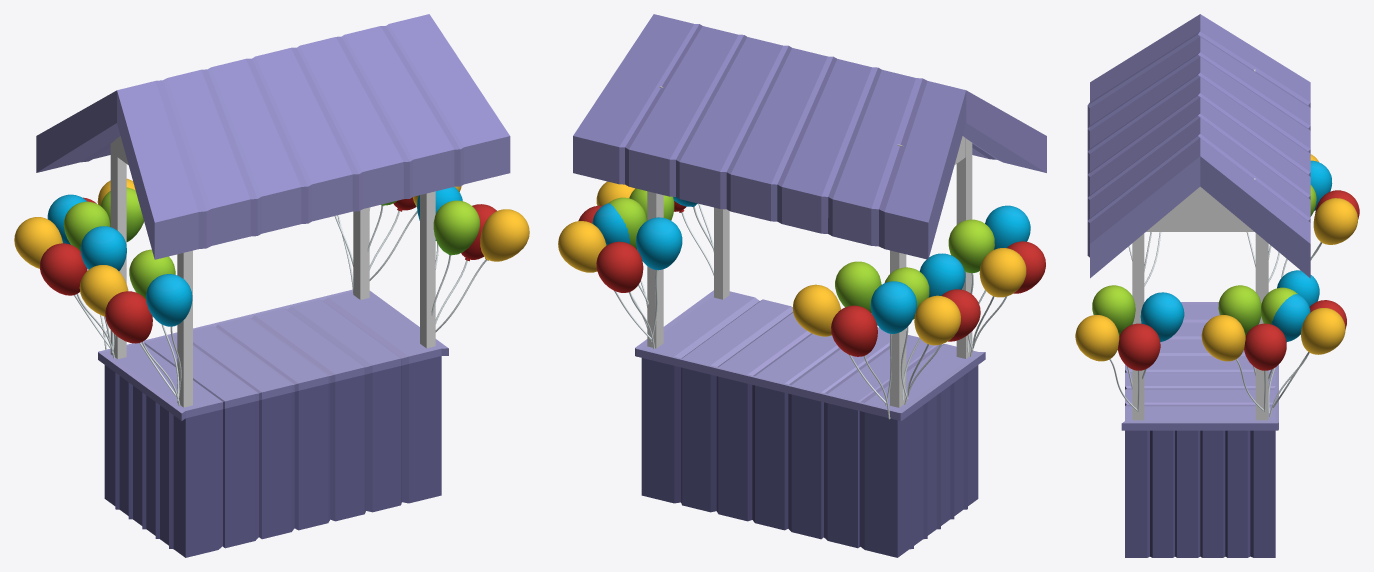
File: Tenant Balon .fbx
3 renders of one model, left to right at view 1: azimuth 30°, elevation 25°; view 2: azimuth 150°, elevation 25°; view 3: azimuth 270°, elevation 25°, orthographic. The views are drawn at different scales.
Visible parts, largest first — view 1: Cube.041, Cube.315, Sphere.006, Sphere.001, Sphere.007, Cube.314, Sphere.010, Cube.311, Cube.313, Cube.312; view 2: Cube.041, Cube.315, Sphere.010, Sphere.009, Sphere.006, Sphere.001, Sphere.008, Cube.311, Cube.312, Cube.314, Cube.313; view 3: Cube.315, Cube.041, Sphere.007, Sphere.008, Sphere.009, Sphere.010, Cube.042, Cube.314, Cube.312.
Part boxes in pixels (x1,y1,x2,y2): Cube.041: [98, 289, 448, 557]; Cube.315: [36, 14, 510, 259]; Sphere.006: [79, 249, 192, 343]; Sphere.001: [14, 201, 126, 295]; Sphere.007: [417, 187, 529, 261]; Cube.314: [420, 191, 435, 348]; Sphere.010: [47, 178, 143, 244]; Cube.311: [177, 250, 192, 407]; Cube.313: [110, 138, 126, 359]; Cube.312: [353, 207, 369, 299]; Cube.041: [635, 290, 985, 557]; Cube.315: [573, 14, 1046, 259]; Sphere.010: [792, 261, 916, 356]; Sphere.009: [558, 197, 682, 292]; Sphere.006: [948, 205, 1045, 297]; Sphere.001: [884, 253, 980, 345]; Sphere.008: [578, 181, 674, 245]; Cube.311: [956, 138, 972, 358]; Cube.312: [647, 191, 663, 348]; Cube.314: [714, 207, 729, 299]; Cube.313: [890, 250, 906, 407]; Cube.315: [1087, 14, 1310, 278]; Cube.041: [1121, 302, 1278, 557]; Sphere.007: [1075, 285, 1184, 370]; Sphere.008: [1201, 285, 1310, 370]; Sphere.009: [1261, 270, 1346, 354]; Sphere.010: [1310, 160, 1359, 244]; Cube.042: [1146, 178, 1255, 231]; Cube.314: [1132, 233, 1144, 420]; Cube.312: [1255, 233, 1268, 420].
Bounding box in the file's own units: 626 × 666 × 413.
